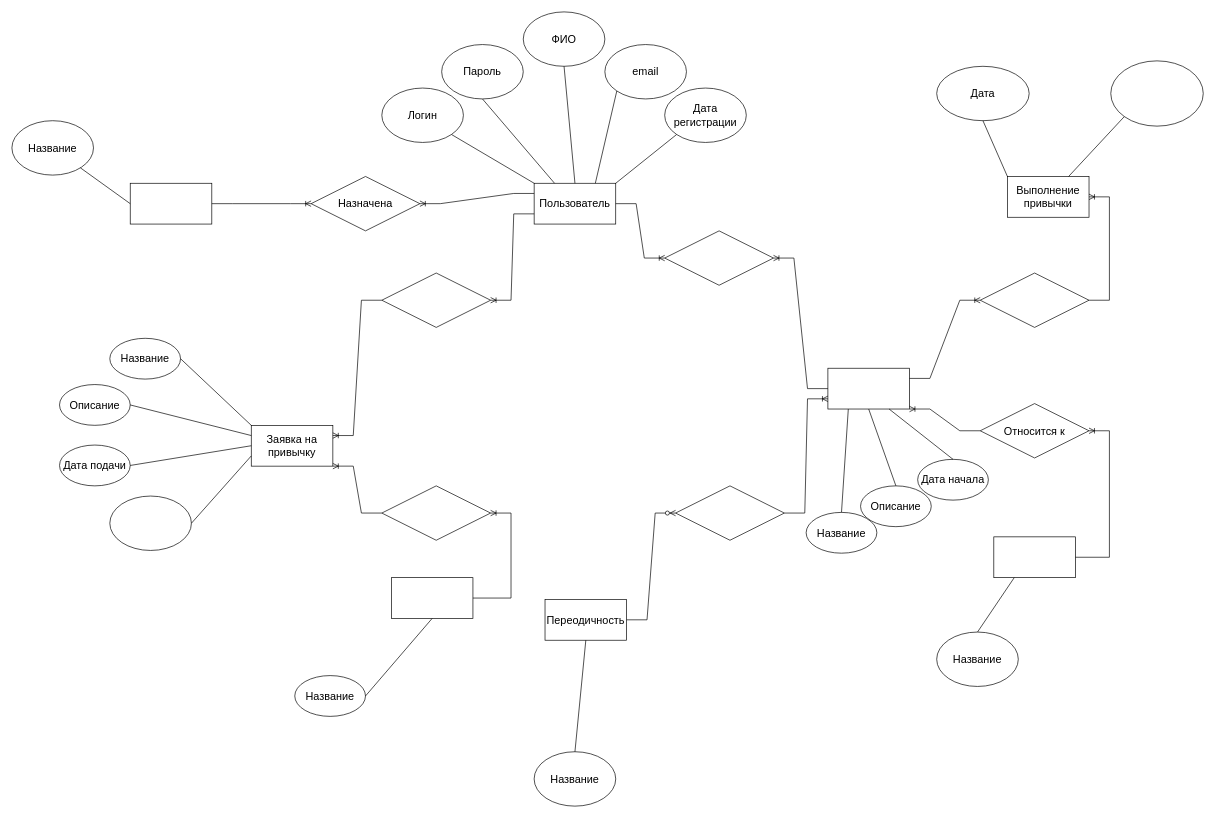
Image size: 1215x818. Some labels were removed from this diagram. Each missing label, with the centre of its shape:
"Ведет" goes at point (719, 257).
"Имеет" goes at point (436, 512).
"Категория" goes at point (1034, 557).
"Комметарий менеджера" goes at point (150, 522).
"Отметка" goes at point (1156, 93).
"Отмечается" goes at point (1034, 299).
"Повторяется" goes at point (729, 512).
"Подает" goes at point (436, 299).
"Привычка" goes at point (868, 388).
"РОЛЬ" goes at point (171, 203).
"Статус заяки" goes at point (432, 597).
